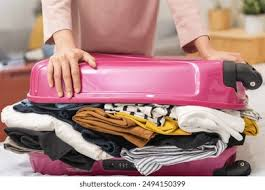suitcase: (26, 51, 263, 179)
